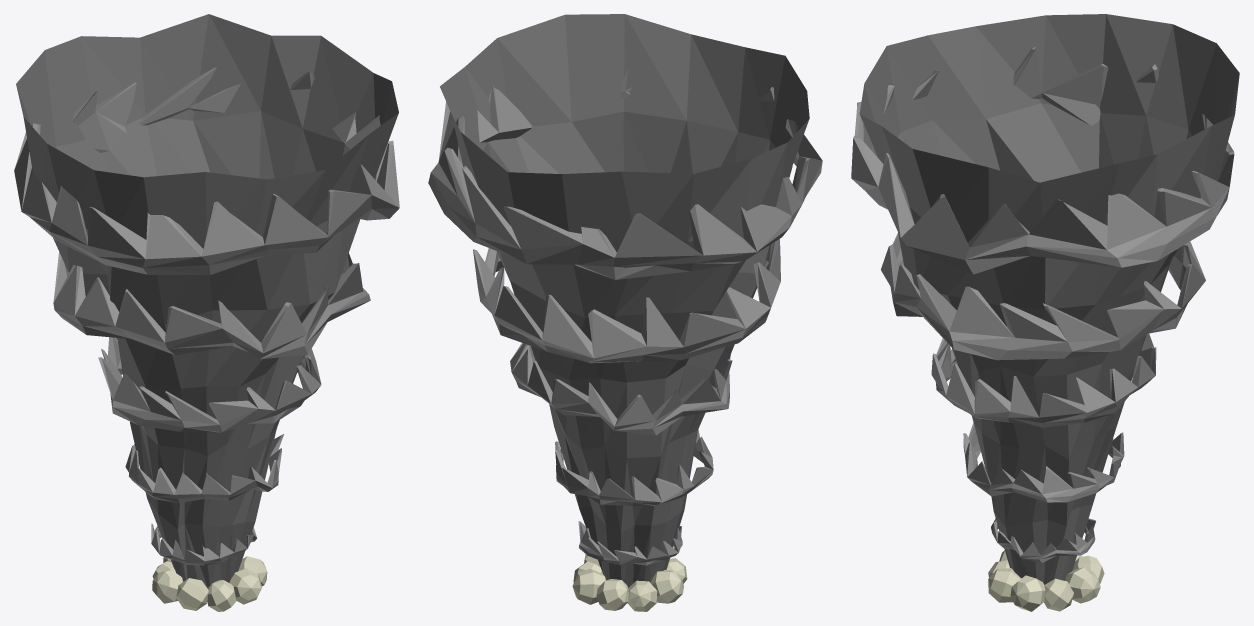
Rendered from Tornado_Model.FBX.
3 renders of one model, left to right at view 1: azimuth 30°, elevation 25°; view 2: azimuth 150°, elevation 25°; view 3: azimuth 270°, elevation 25°, orthographic. The views are drawn at different scales.
Parts seen in each view (by area): view 1: Tornado_main, Tornadodeel005, Tornado_rand4, Tornado_rand3, Tornado_rand2, Tornadodeel1, Tornado_stof3, Tornado_stof1, Tornado_stof9, Tornado_stof2; view 2: Tornado_main, Tornadodeel005, Tornado_rand4, Tornado_rand3, Tornado_rand2, Tornadodeel1, Tornado_stof9, Tornado_stof7, Tornado_stof6, Tornado_stof8; view 3: Tornado_main, Tornadodeel005, Tornado_rand4, Tornado_rand3, Tornado_rand2, Tornadodeel1, Tornado_stof4, Tornado_stof6, Tornado_stof3, Tornado_stof5.
Boxes of the visible parts, <box> form: Tornado_main: <box>16,14,398,587</box>; Tornadodeel005: <box>14,67,399,274</box>; Tornado_rand4: <box>53,252,370,359</box>; Tornado_rand3: <box>98,337,321,432</box>; Tornado_rand2: <box>125,434,283,503</box>; Tornadodeel1: <box>151,523,256,565</box>; Tornado_stof3: <box>229,568,261,604</box>; Tornado_stof1: <box>176,578,208,610</box>; Tornado_stof9: <box>152,569,183,603</box>; Tornado_stof2: <box>207,580,236,611</box>; Tornado_main: <box>440,14,809,587</box>; Tornadodeel005: <box>428,68,822,279</box>; Tornado_rand4: <box>473,239,780,363</box>; Tornado_rand3: <box>510,343,732,435</box>; Tornado_rand2: <box>555,429,713,505</box>; Tornadodeel1: <box>578,521,682,565</box>; Tornado_stof9: <box>650,570,683,603</box>; Tornado_stof7: <box>596,579,628,610</box>; Tornado_stof6: <box>572,568,605,604</box>; Tornado_stof8: <box>627,580,657,611</box>; Tornado_main: <box>859,14,1239,584</box>; Tornadodeel005: <box>851,46,1234,274</box>; Tornado_rand4: <box>881,233,1205,360</box>; Tornado_rand3: <box>931,333,1156,427</box>; Tornado_rand2: <box>963,422,1124,502</box>; Tornadodeel1: <box>991,518,1095,563</box>; Tornado_stof4: <box>1010,575,1045,611</box>; Tornado_stof6: <box>1065,567,1100,603</box>; Tornado_stof3: <box>988,568,1021,602</box>; Tornado_stof5: <box>1044,578,1073,611</box>.
Bounding box in the file's own units: 21414 × 21371 × 31045.
